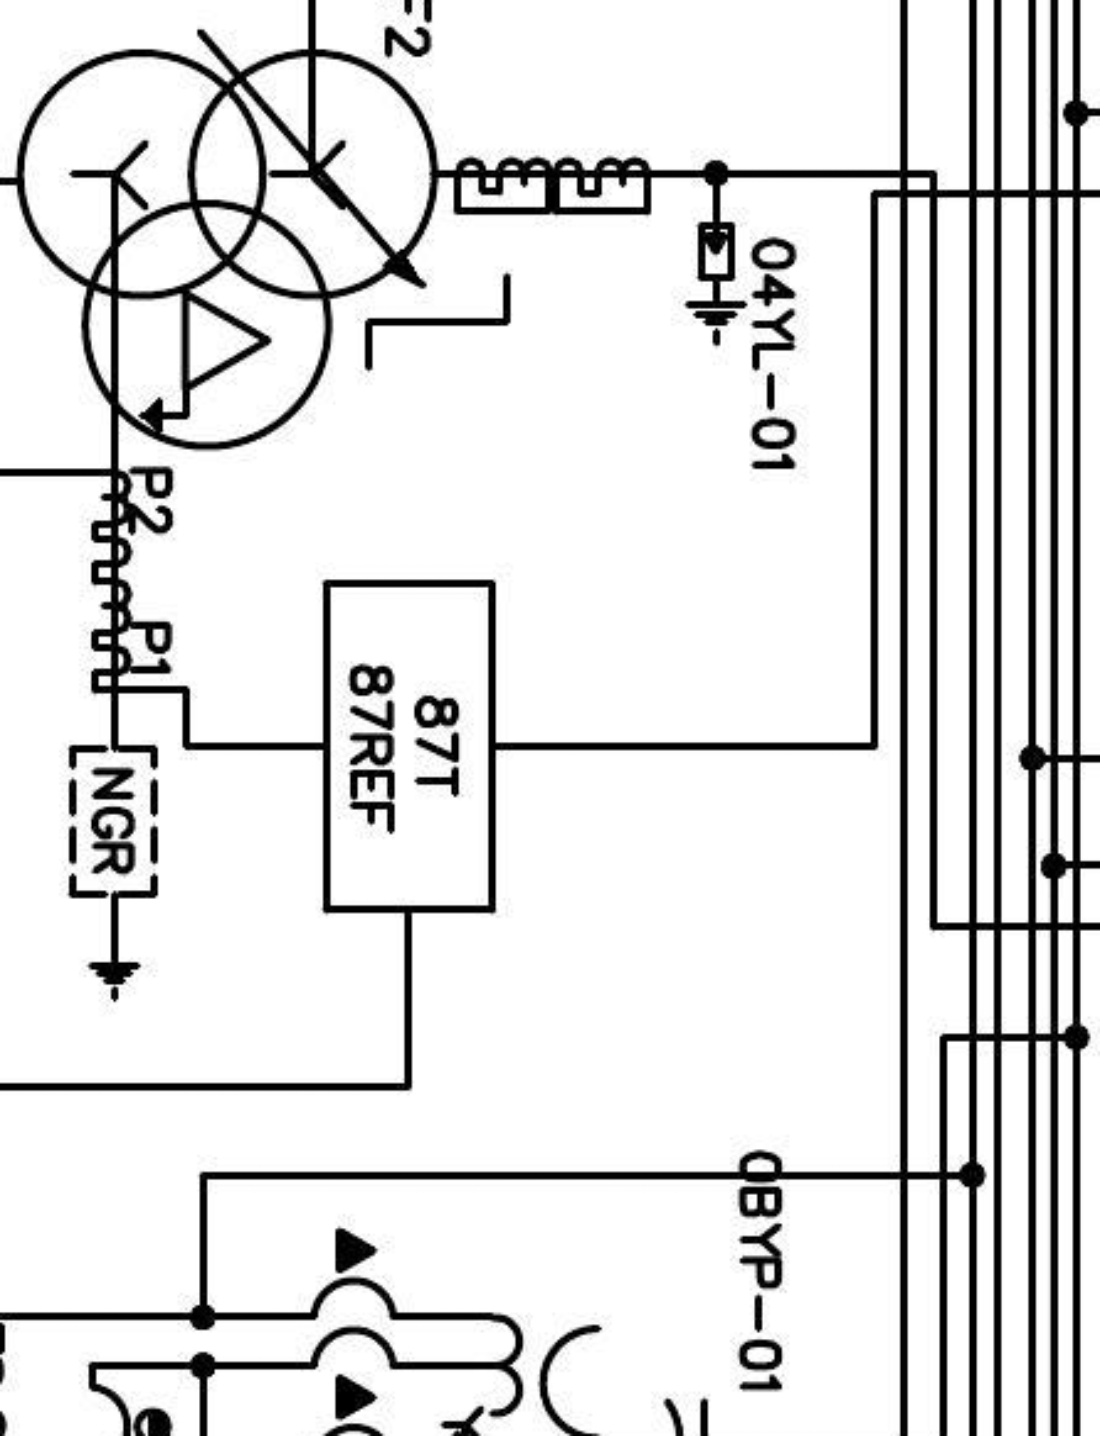11522_tx_ynyn0d1: (13, 46, 441, 453)
115_la: (683, 221, 749, 348)
NGR_future: (67, 743, 159, 1003)
